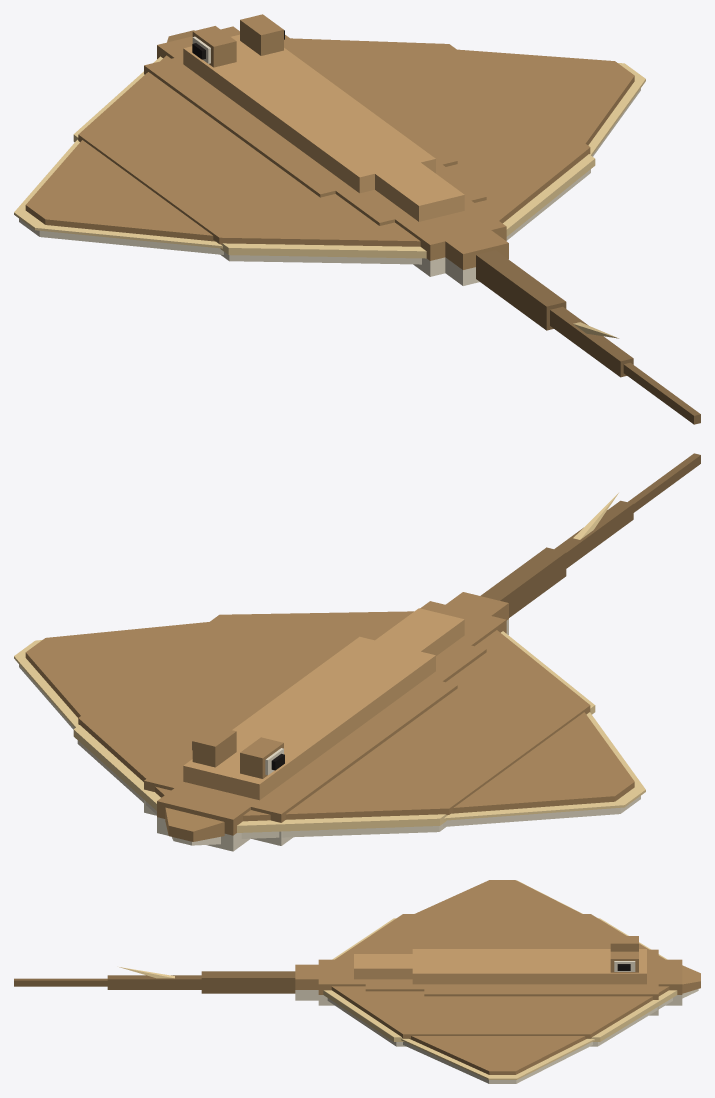
Rendered from Stingray.obj.
The picture shows the model from 3 angles, top to bottom: view 1: azimuth 30°, elevation 25°; view 2: azimuth 150°, elevation 25°; view 3: azimuth 270°, elevation 25°; orthographic projection. The views are drawn at different scales.
Parts seen in each view (by area): view 1: Body, WingL1, WingR1, WingL2, WingR2, Tail1, Tail2, Tail3; view 2: Body, WingL1, WingR1, WingL2, WingR2, Tail1, Tail2, Tail3; view 3: Body, WingR1, WingL1, WingR2, WingL2, Tail1, Tail2, Tail3.
Boxes of the visible parts, <box> form: Body: <box>144,14,508,285</box>; WingL1: <box>73,55,426,264</box>; WingR1: <box>291,38,595,240</box>; WingL2: <box>14,139,223,254</box>; WingR2: <box>457,49,645,156</box>; Tail1: <box>476,250,566,330</box>; Tail2: <box>550,306,633,377</box>; Tail3: <box>623,362,700,424</box>; Body: <box>144,592,508,851</box>; WingL1: <box>237,630,595,838</box>; WingR1: <box>73,611,413,814</box>; WingL2: <box>443,712,645,826</box>; WingR2: <box>14,622,208,729</box>; Tail1: <box>480,547,566,617</box>; Tail2: <box>554,493,633,568</box>; Tail3: <box>627,453,700,512</box>; Body: <box>295,936,700,1015</box>; WingR1: <box>323,986,677,1046</box>; WingL1: <box>332,914,667,959</box>; WingR2: <box>401,1036,594,1083</box>; WingL2: <box>415,880,582,913</box>; Tail1: <box>201,971,295,993</box>; Tail2: <box>107,967,201,989</box>; Tail3: <box>14,978,107,986</box>.
Bounding box in the file's own units: 16 × 2.12 × 23.44.
1 material, 1 textured.
